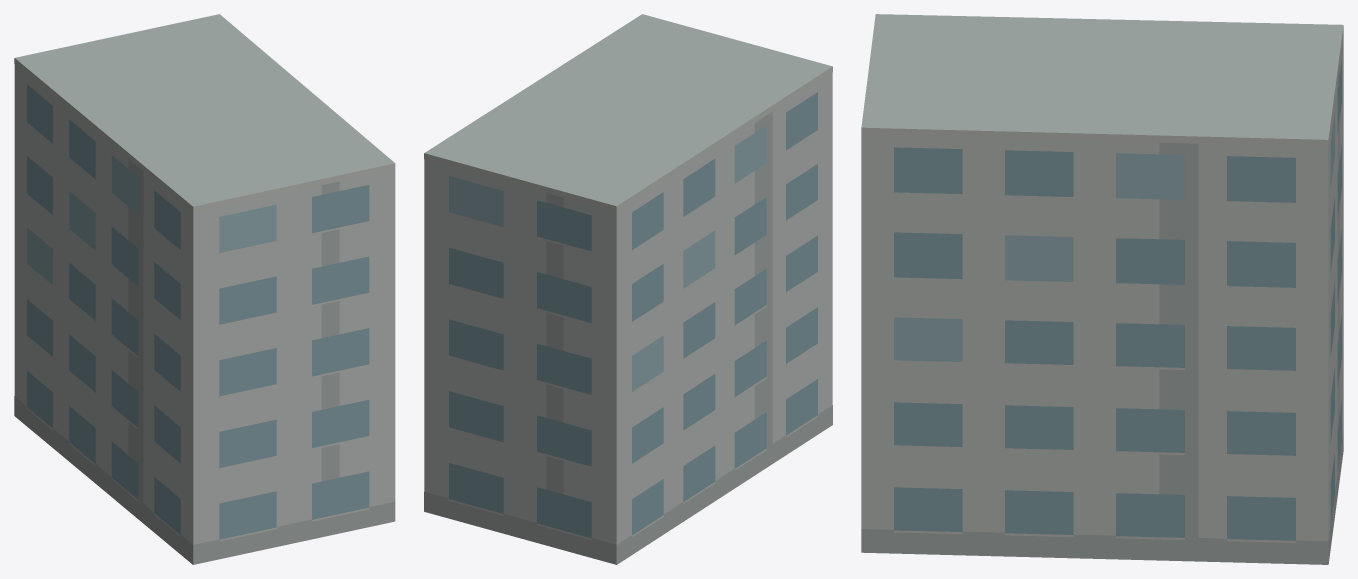
Rendered from survey-upis-32894076.glb.
3 views of the same model, side by side, from view 1: azimuth 30°, elevation 25°; view 2: azimuth 150°, elevation 25°; view 3: azimuth 270°, elevation 25° (orthographic). The views are drawn at different scales.
Parts seen in each view (by area): view 1: survey-upis-32894076.tmp; view 2: survey-upis-32894076.tmp; view 3: survey-upis-32894076.tmp.
Part boxes in pixels (bbox=[...]): survey-upis-32894076.tmp: bbox=[14, 14, 395, 564]; survey-upis-32894076.tmp: bbox=[424, 14, 832, 564]; survey-upis-32894076.tmp: bbox=[861, 14, 1343, 564].
Bounding box in the file's own units: 9.12 × 14.35 × 14.77.
